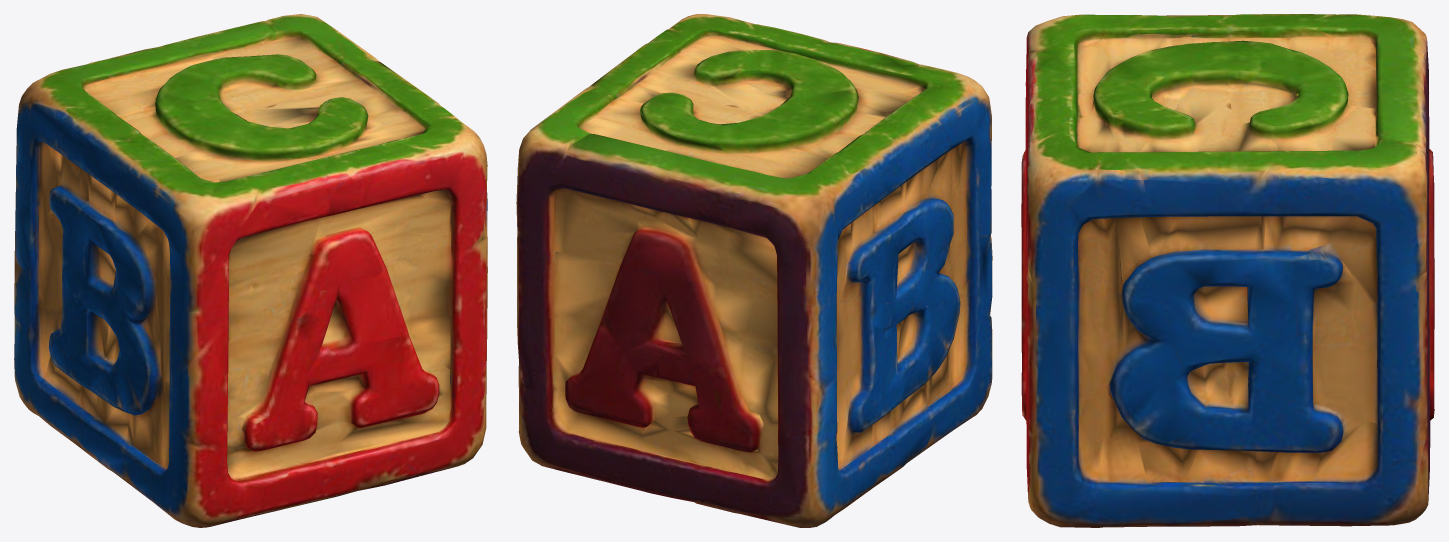
File: block.glb
3 renders of one model, left to right at view 1: azimuth 30°, elevation 25°; view 2: azimuth 150°, elevation 25°; view 3: azimuth 270°, elevation 25°, orthographic. The views are drawn at different scales.
Visible parts, largest first — view 1: prop; view 2: prop; view 3: prop.
Boxes of the visible parts, x1,y1,x2,y2 form: prop: (14, 14, 487, 527); prop: (516, 14, 992, 527); prop: (1021, 14, 1434, 527).
Bounding box in the file's own units: 0.9455 × 1 × 0.9969.
1 material, 1 textured.
